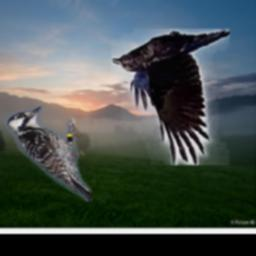Crow: (111, 30, 230, 166)
Woodpecker: (7, 106, 93, 203)
